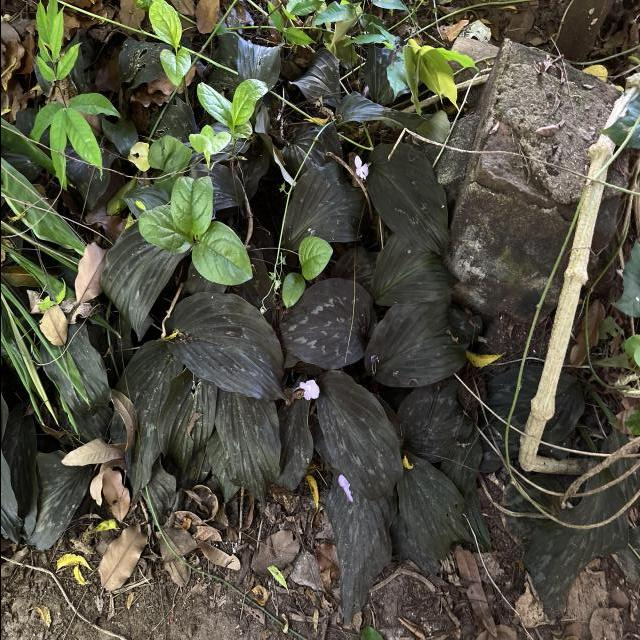Kaempferia galanga linn: (160, 290, 292, 404), (313, 367, 405, 503), (323, 470, 398, 628), (363, 140, 452, 262), (362, 294, 469, 389), (274, 276, 378, 372), (394, 449, 475, 563), (213, 382, 283, 512), (366, 230, 458, 308)
